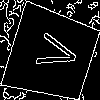V: (26, 28, 80, 74)
